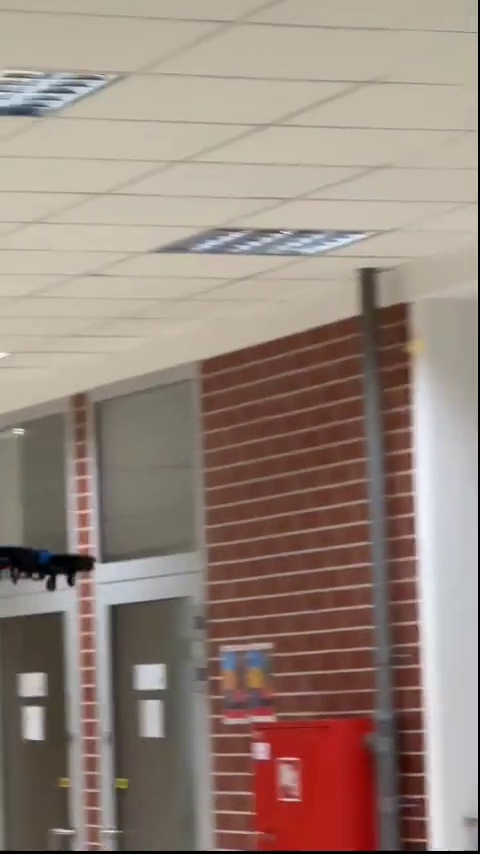drone: (0, 540, 100, 586)
